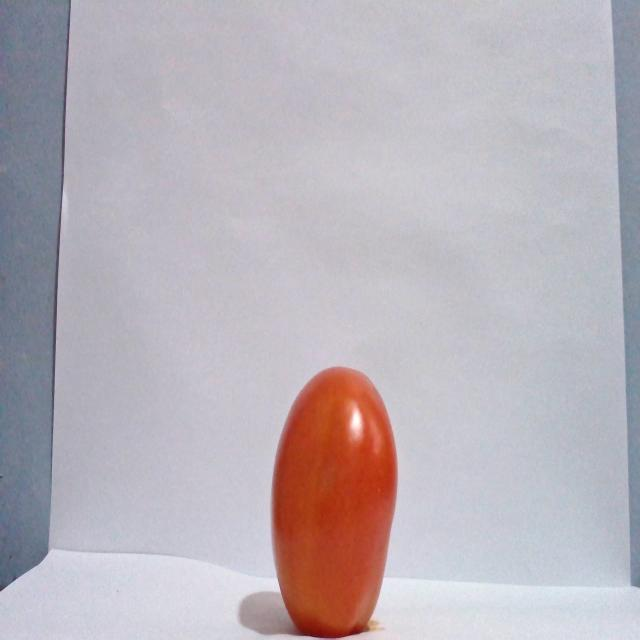Red: (269, 364, 399, 637)
